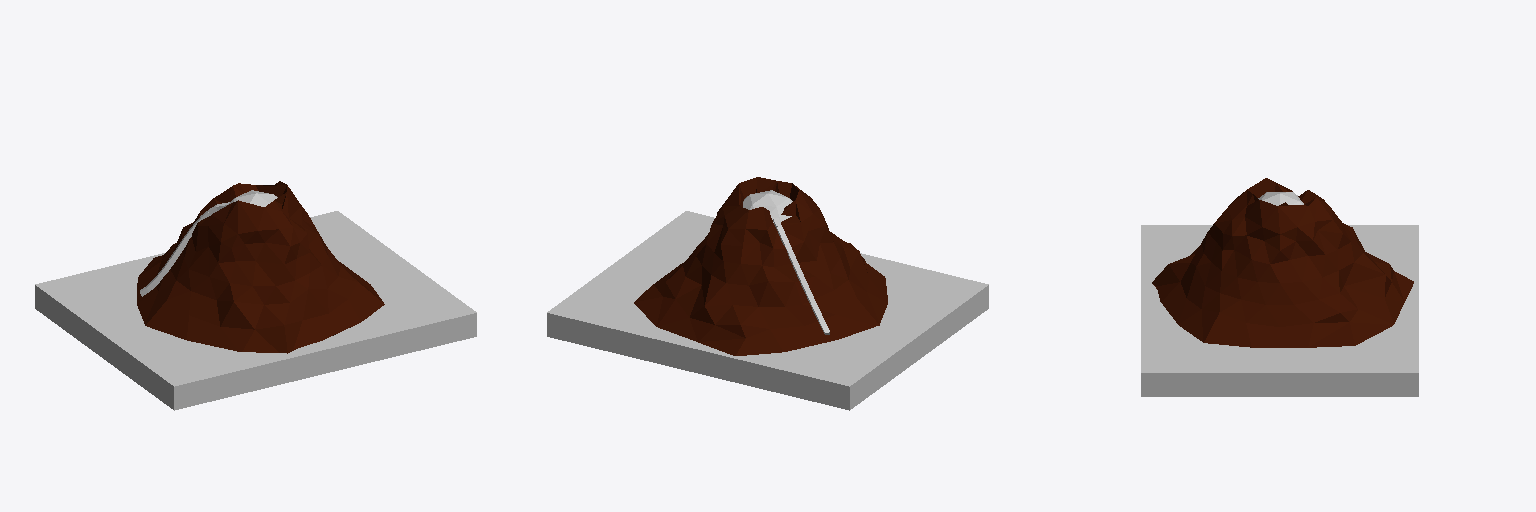
Rendered from volcano.obj.
The picture shows the model from 3 angles: view 1: azimuth 30°, elevation 25°; view 2: azimuth 150°, elevation 25°; view 3: azimuth 270°, elevation 25°; orthographic projection.
Visible parts, largest first — view 1: Cube_Cube.001, Volcano_Icosphere.002, Cube.001_Cube.003; view 2: Cube_Cube.001, Volcano_Icosphere.002, Cube.001_Cube.003; view 3: Volcano_Icosphere.002, Cube_Cube.001.
Boxes of the visible parts, box(x1,y1,x2,y2) form: Cube_Cube.001: box(35, 211, 476, 410); Volcano_Icosphere.002: box(137, 181, 384, 353); Cube.001_Cube.003: box(140, 190, 275, 296); Cube_Cube.001: box(547, 211, 988, 410); Volcano_Icosphere.002: box(634, 177, 887, 355); Cube.001_Cube.003: box(743, 191, 829, 334); Volcano_Icosphere.002: box(1152, 178, 1413, 347); Cube_Cube.001: box(1141, 225, 1418, 396).
Size of the model in its own units: 263 by 111 by 210.